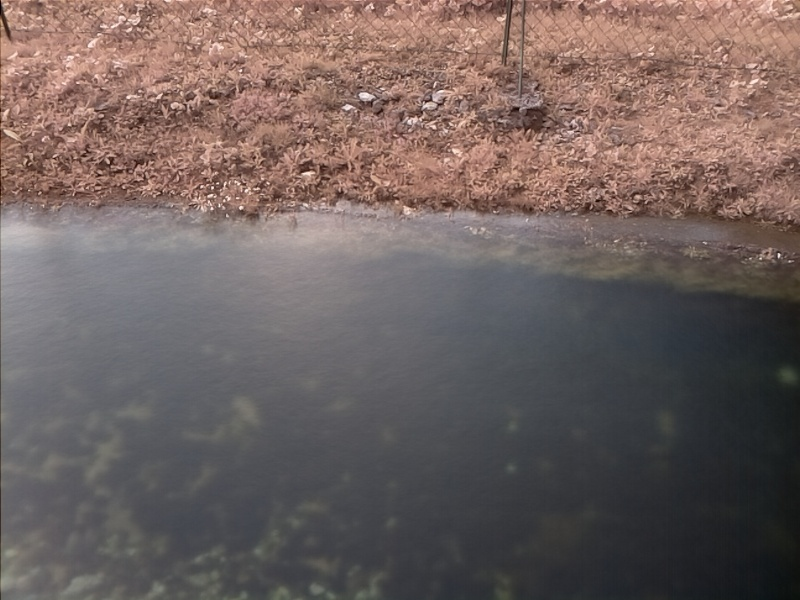Water: (1, 197, 799, 600)
